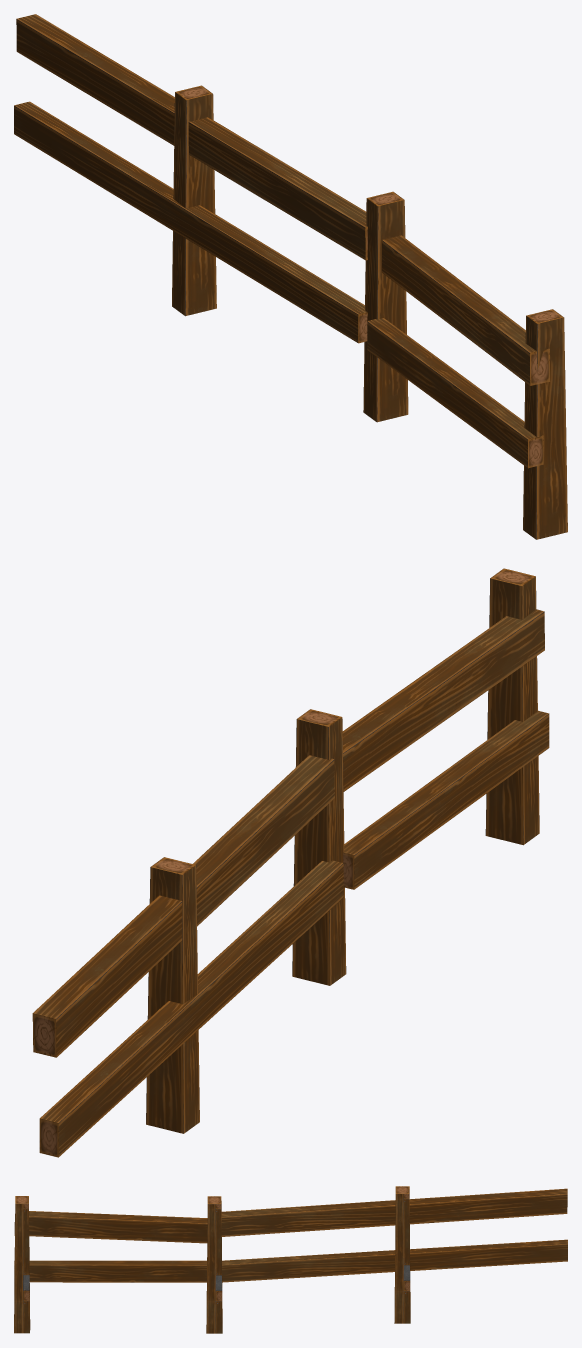
3 views of the same model, one above another, from view 1: azimuth 30°, elevation 25°; view 2: azimuth 150°, elevation 25°; view 3: azimuth 270°, elevation 25° (orthographic). The views are drawn at different scales.
Visible parts, largest first — view 1: Cube.2142; view 2: Cube.2142; view 3: Cube.2142.
Boxes of the visible parts, left/top/right/bottom form: Cube.2142: left=14, top=14, right=567, bottom=539; Cube.2142: left=32, top=568, right=549, bottom=1157; Cube.2142: left=14, top=1186, right=567, bottom=1333.
Bounding box in the file's own units: 59.86 × 132 × 514.
Materials: 1 (1 with a texture image).
